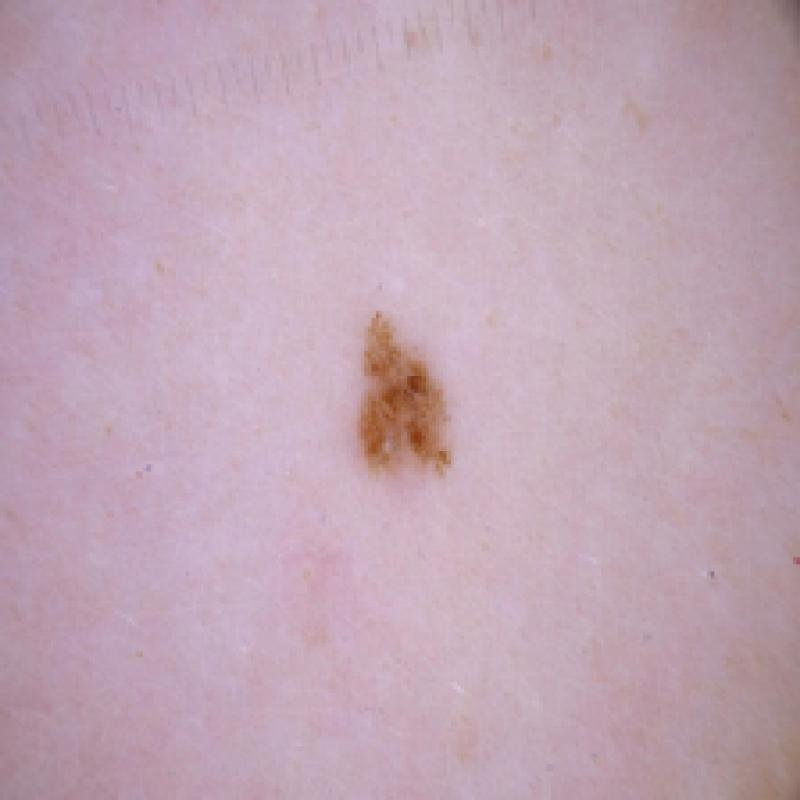benign: (322, 293, 477, 483)
